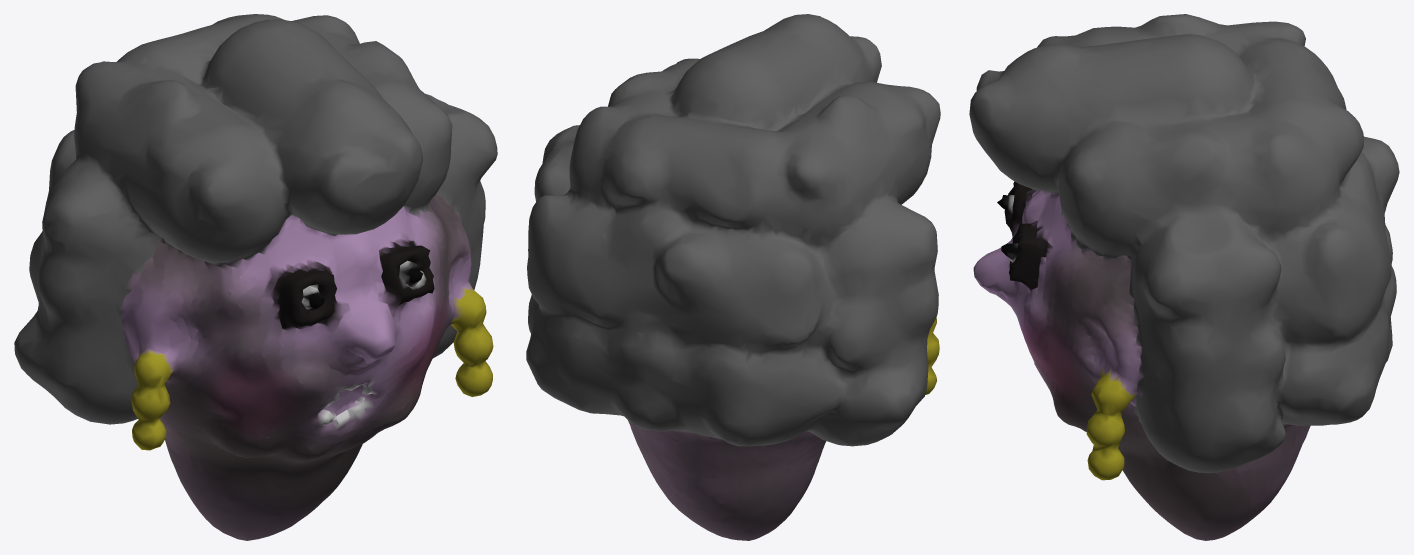
File: eyt_mumhead.gltf
3 renders of one model, left to right at view 1: azimuth 30°, elevation 25°; view 2: azimuth 150°, elevation 25°; view 3: azimuth 270°, elevation 25°, orthographic. The views are drawn at different scales.
Parts seen in each view (by area): view 1: Layer_1; view 2: Layer_1; view 3: Layer_1.
Boxes of the visible parts, box(x1,y1,x2,y2) form: Layer_1: box(14, 14, 497, 540); Layer_1: box(526, 14, 940, 540); Layer_1: box(969, 14, 1399, 540).
Size of the model in its own units: 0.5355 by 0.6008 by 0.471.
